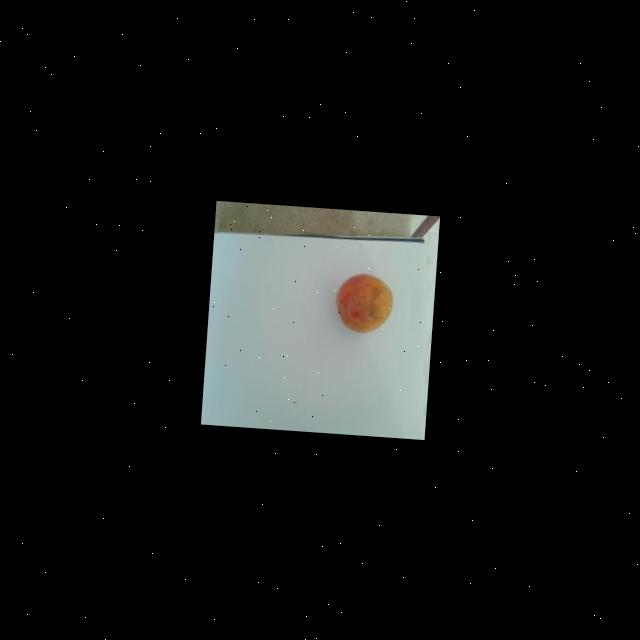Mango: (334, 271, 394, 334)
